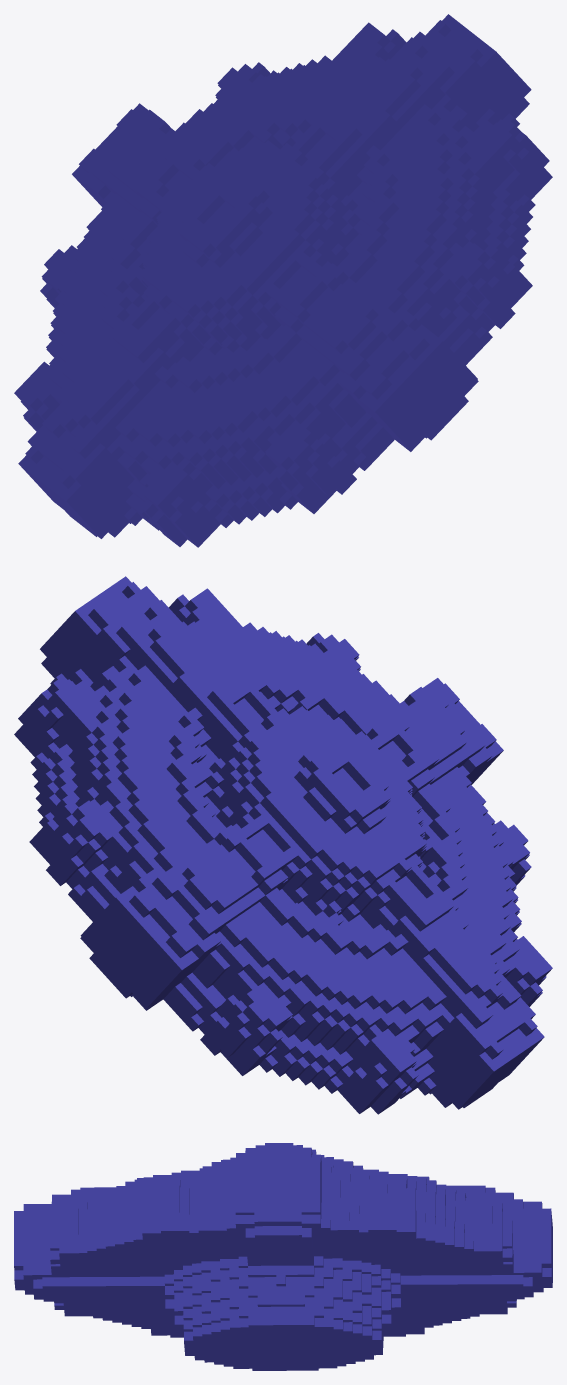
File: nave2.fbx
3 views of the same model, one above another, from view 1: azimuth 30°, elevation 25°; view 2: azimuth 150°, elevation 25°; view 3: azimuth 270°, elevation 25° (orthographic). The views are drawn at different scales.
Visible parts, largest first — view 1: base.003; view 2: base.003; view 3: base.003.
Boxes of the visible parts, left/top/right/bottom form: base.003: left=14, top=14, right=552, bottom=547; base.003: left=14, top=576, right=552, bottom=1114; base.003: left=14, top=1143, right=552, bottom=1370.
Size of the model in its own units: 141 by 118 by 164.
